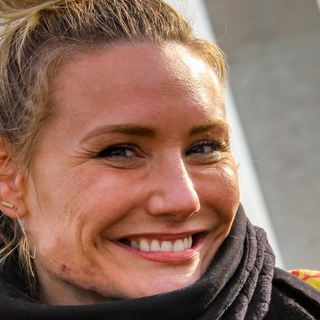eye: (90, 139, 146, 165), (182, 135, 226, 162)
